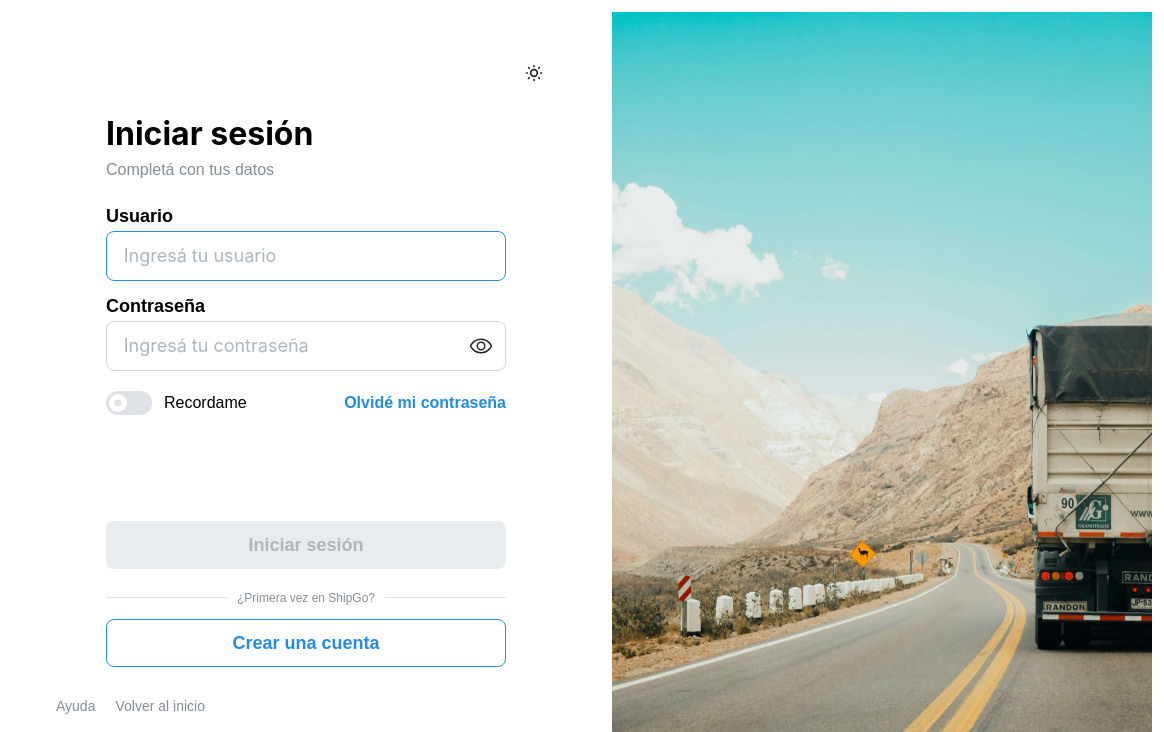
LoginPage — captcha (SHG-FE-043) › captcha activado: el submit queda deshabilitado hasta que el widget resuelve un token
The image size is (1164, 732).
Later steps or results of the test are not shown.
Type "juan" into the field labelled "Usuario".
click(306, 256); type("juan")  # box [106,231,506,281]
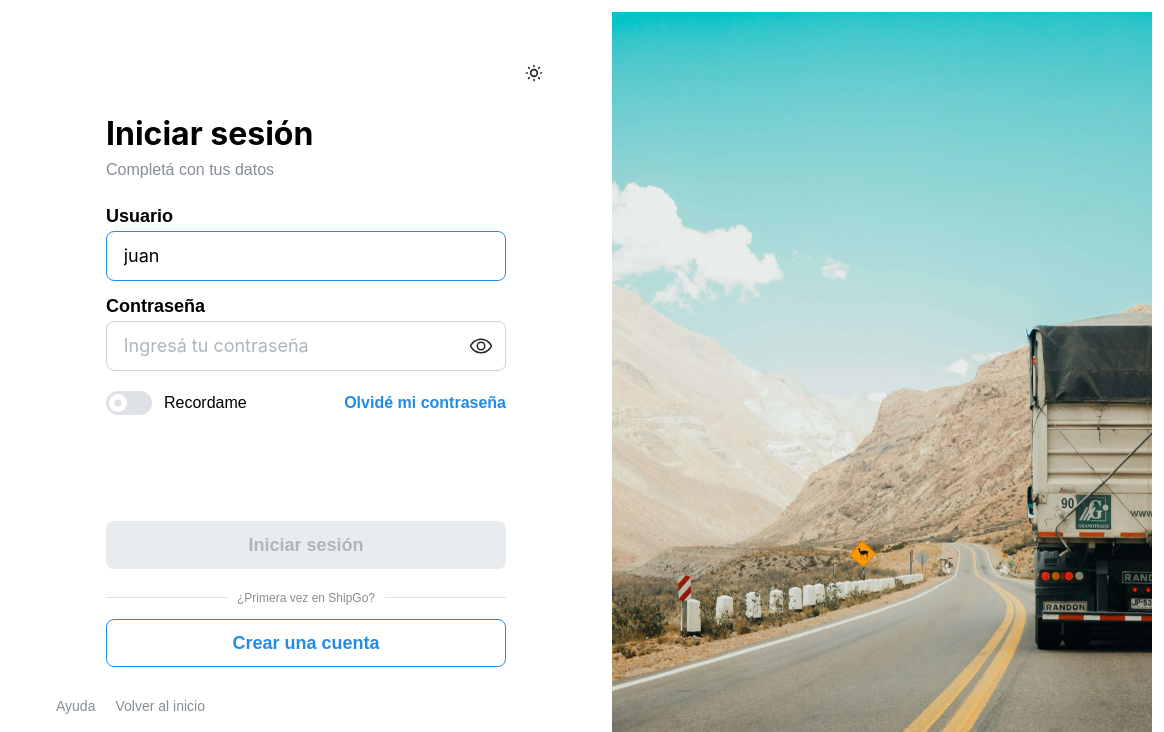
Type "Shipgo123!" into the password field labelled "Contraseña".
click(306, 346); type("Shipgo123!")  # box [107,322,505,370]
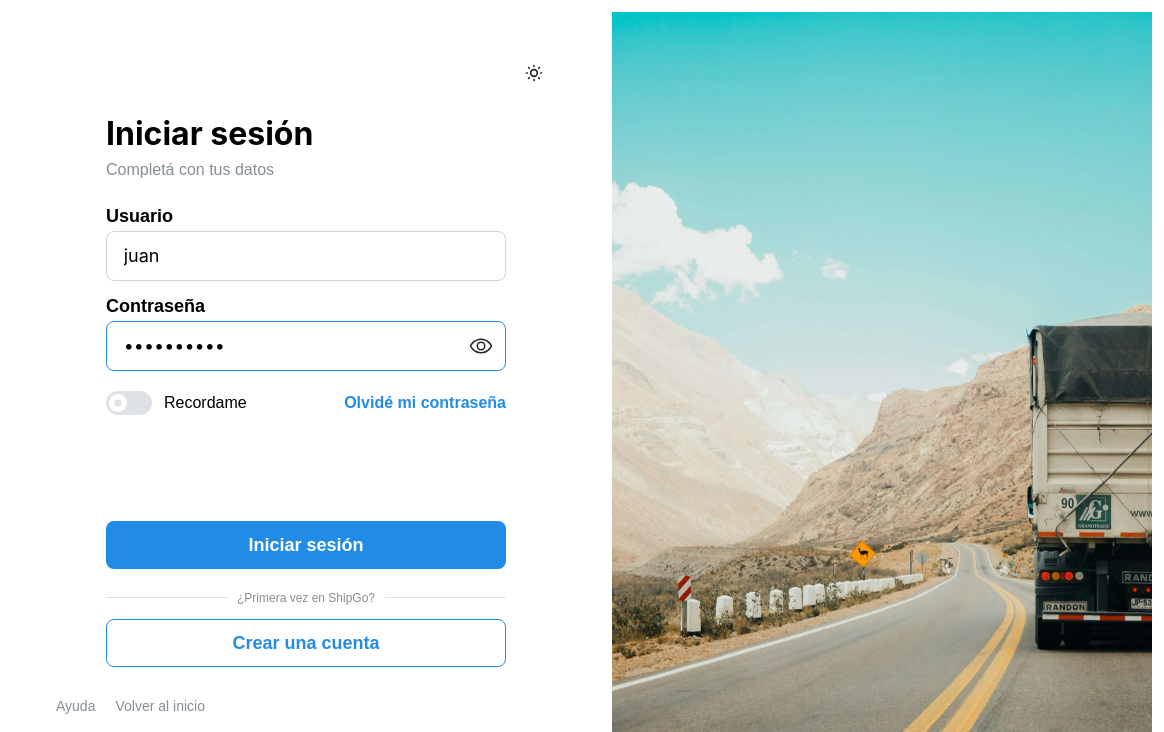
expect the button "Iniciar sesión" is enabled: met, box [106,520,506,568]
